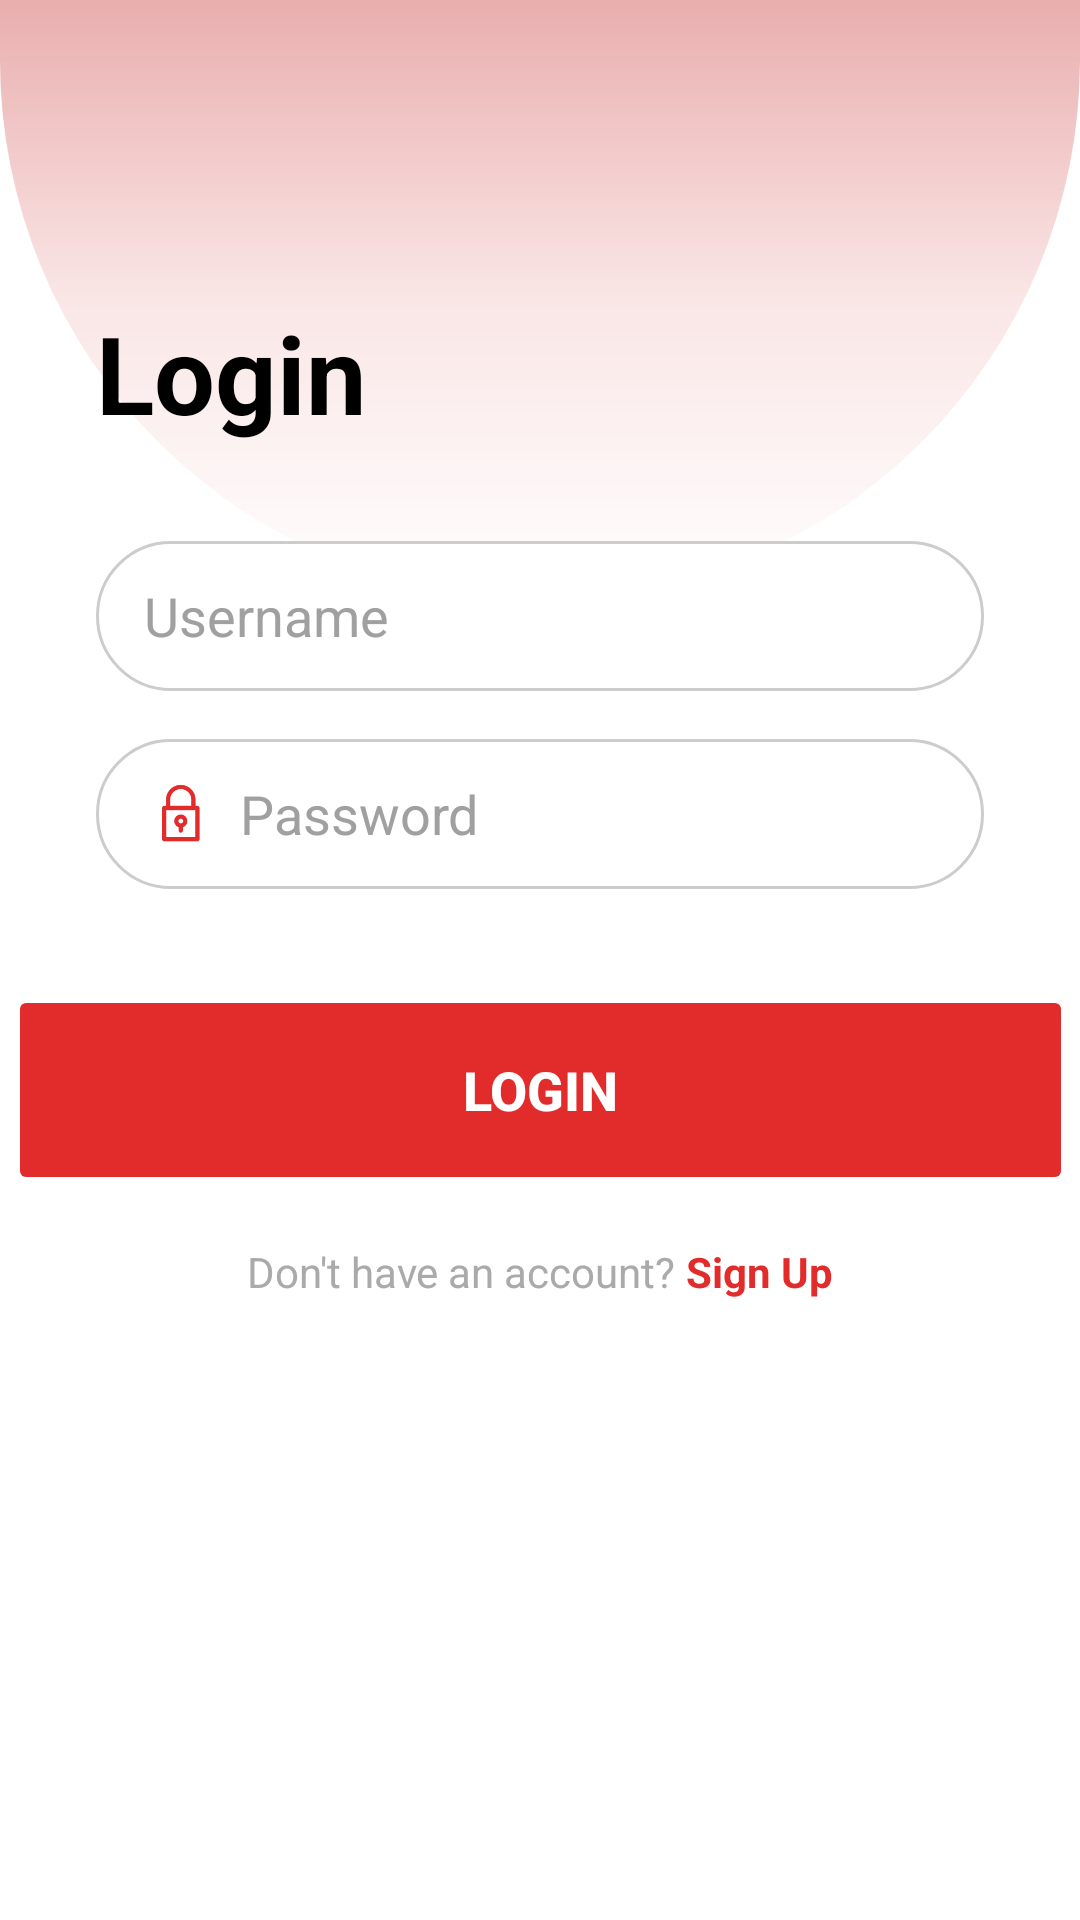

Icon bounding boxes for this 1080 × 1920 phone screenshot, format box=[x1, y1, x2, y2]:
Lock: box=[162, 785, 200, 842]
